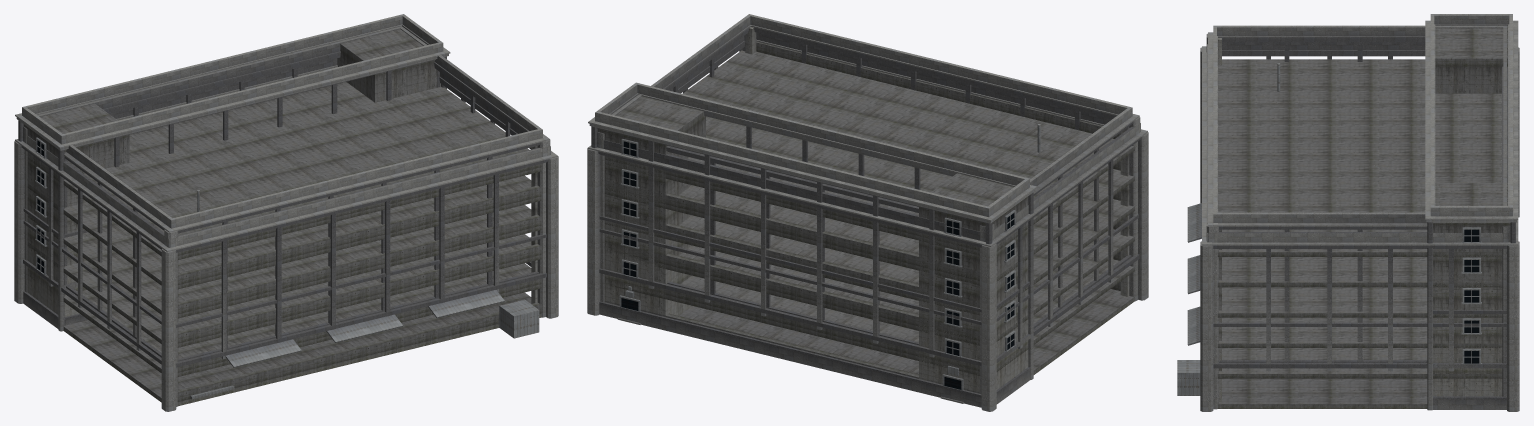
Rendered from beaubien-parking-garage_lod0.gltf.
3 views of the same model, side by side, from view 1: azimuth 30°, elevation 25°; view 2: azimuth 150°, elevation 25°; view 3: azimuth 270°, elevation 25° (orthographic). The views are drawn at different scales.
Parts seen in each view (by area): view 1: beaubien-parking-garage_decks, beaubien-parking-garage__v4_stone_detail, beaubien-parking-garage_stairs, beaubien-parking-garage__ticket_booth, beaubien-parking-garage__awning_a, beaubien-parking-garage__awning_c, beaubien-parking-garage__awning_b, beaubien-parking-garage_fen_14-steel-panel_0; view 2: beaubien-parking-garage_decks, beaubien-parking-garage__v4_stone_detail, beaubien-parking-garage_stairs, beaubien-parking-garage_fen_14-steel-panel_0, beaubien-parking-garage_fen_07-glass-curtain-blue_1_t, beaubien-parking-garage_columns; view 3: beaubien-parking-garage_decks, beaubien-parking-garage__v4_stone_detail, beaubien-parking-garage_stairs, beaubien-parking-garage_fen_07-glass-curtain-blue_1_t, beaubien-parking-garage_fen_14-steel-panel_0, beaubien-parking-garage__ticket_booth, beaubien-parking-garage__awning_a, beaubien-parking-garage__awning_b, beaubien-parking-garage__awning_c, beaubien-parking-garage_columns.
Part boxes in pixels (box(x1,y1,x2,y2)): beaubien-parking-garage_decks: box(27, 67, 541, 406); beaubien-parking-garage__v4_stone_detail: box(14, 14, 558, 411); beaubien-parking-garage_stairs: box(23, 26, 440, 316); beaubien-parking-garage__ticket_booth: box(499, 299, 539, 338); beaubien-parking-garage__awning_a: box(225, 339, 301, 367); beaubien-parking-garage__awning_c: box(428, 290, 504, 318); beaubien-parking-garage__awning_b: box(326, 314, 402, 342); beaubien-parking-garage_fen_14-steel-panel_0: box(35, 137, 47, 275); beaubien-parking-garage_decks: box(604, 41, 1134, 393); beaubien-parking-garage__v4_stone_detail: box(587, 14, 1148, 411); beaubien-parking-garage_stairs: box(597, 96, 1028, 392); beaubien-parking-garage_fen_14-steel-panel_0: box(619, 139, 1016, 390); beaubien-parking-garage_fen_07-glass-curtain-blue_1_t: box(621, 141, 1013, 389); beaubien-parking-garage_columns: box(745, 27, 1129, 296); beaubien-parking-garage_decks: box(1217, 59, 1502, 408); beaubien-parking-garage__v4_stone_detail: box(1200, 14, 1519, 411); beaubien-parking-garage_stairs: box(1433, 26, 1510, 396); beaubien-parking-garage_fen_07-glass-curtain-blue_1_t: box(1464, 229, 1479, 363); beaubien-parking-garage_fen_14-steel-panel_0: box(1461, 227, 1481, 364); beaubien-parking-garage__ticket_booth: box(1177, 360, 1200, 395); beaubien-parking-garage__awning_a: box(1187, 203, 1201, 242); beaubien-parking-garage__awning_b: box(1187, 255, 1200, 294); beaubien-parking-garage__awning_c: box(1187, 306, 1200, 345); beaubien-parking-garage_columns: box(1218, 38, 1221, 401).
Bounding box in the file's own units: 46.44 × 21.89 × 33.72.
